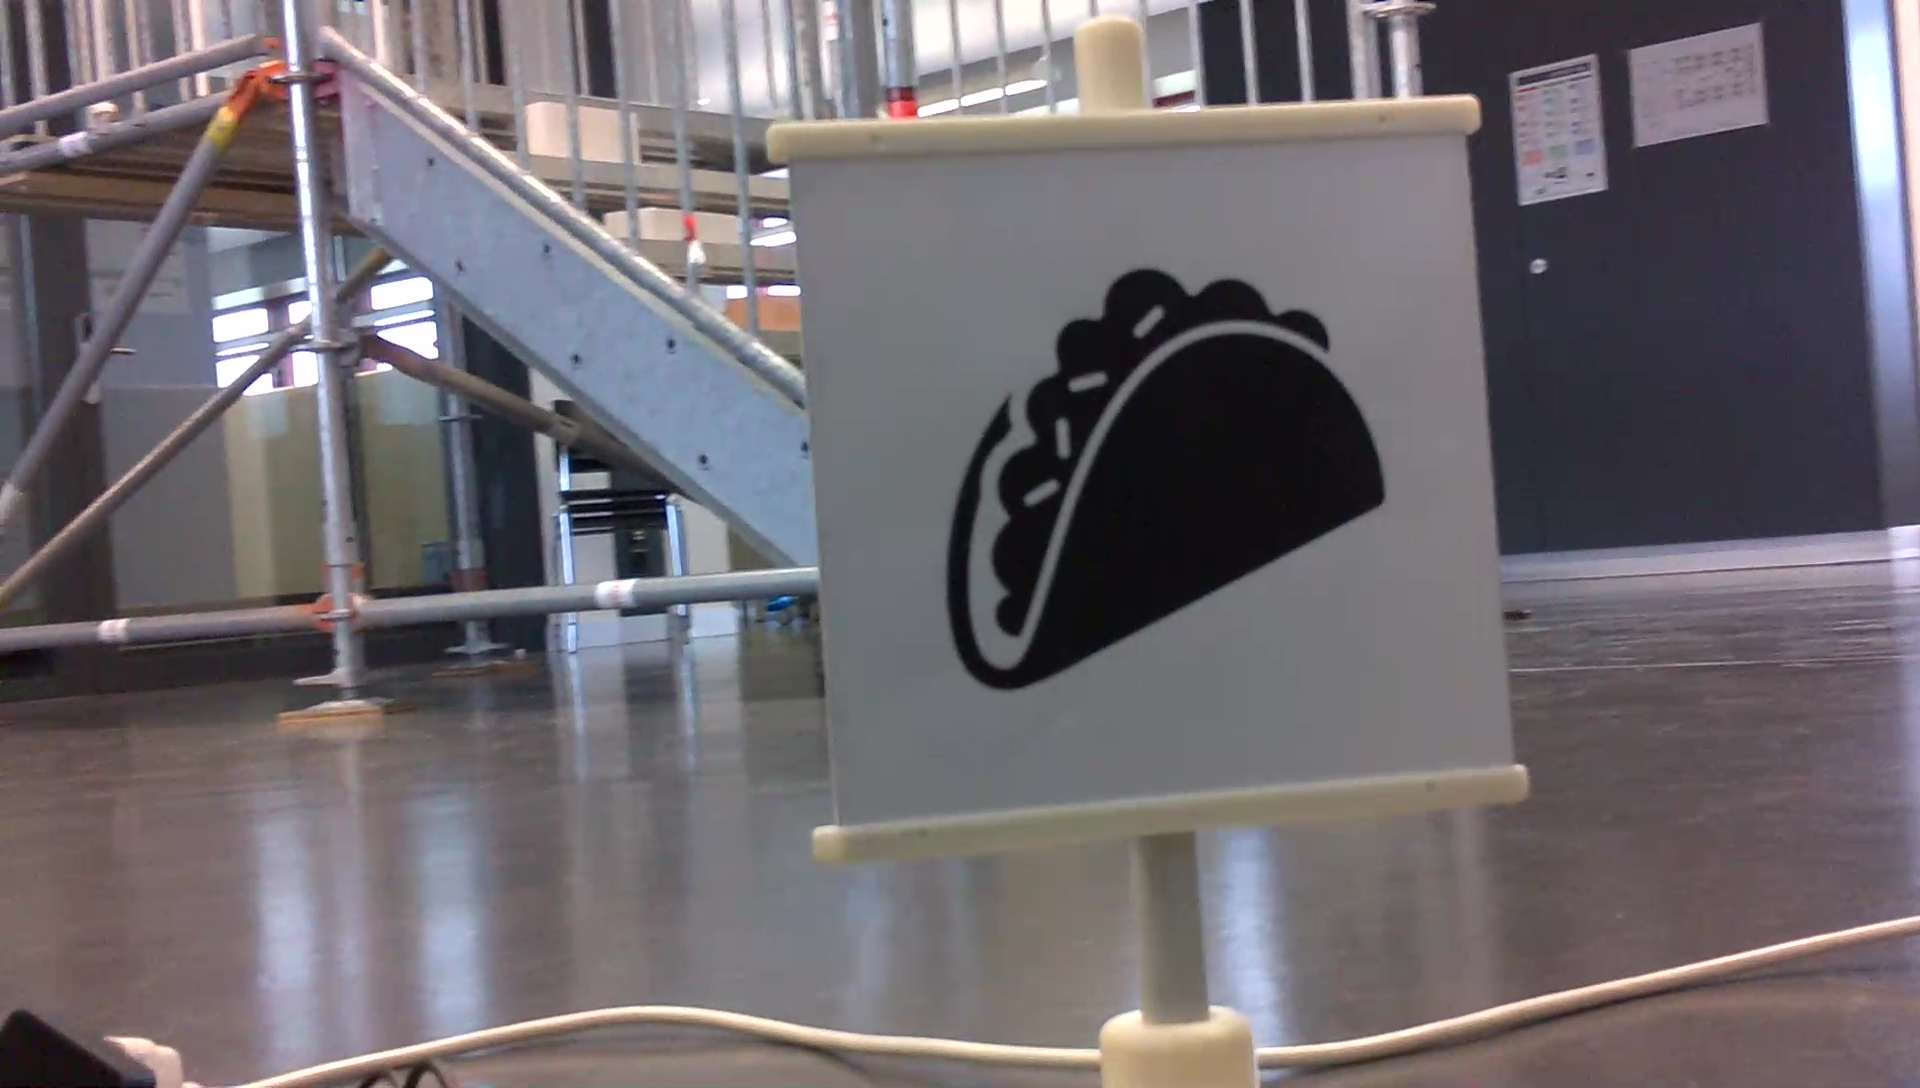taco: (920, 257, 1400, 703)
